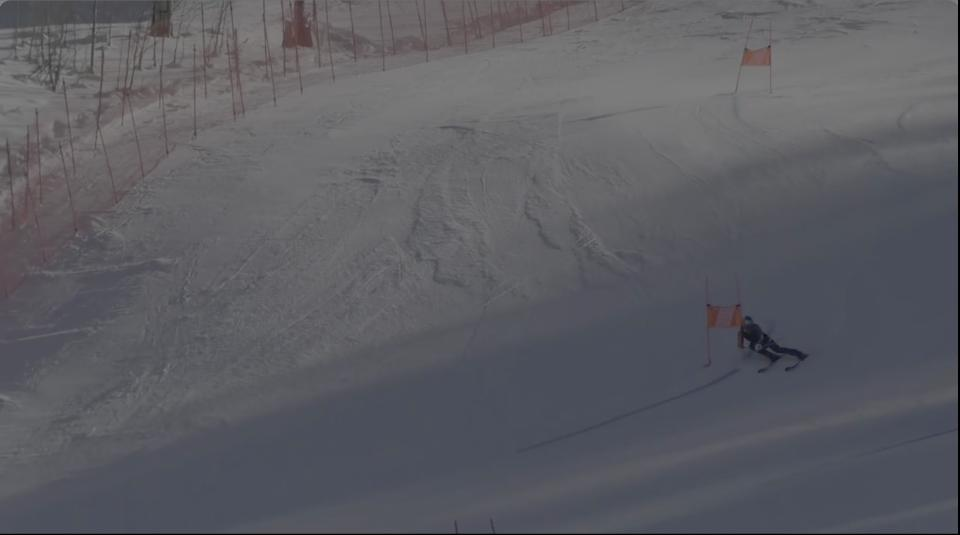gate: (722, 0, 762, 103), (765, 12, 780, 114)
